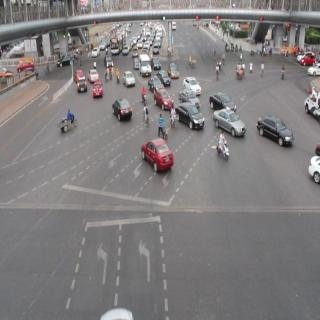Car: (140, 136, 174, 175), (256, 115, 293, 150), (213, 106, 246, 140), (176, 101, 206, 132), (211, 91, 238, 113), (110, 98, 133, 122), (182, 73, 201, 95), (155, 88, 171, 108), (140, 56, 152, 77), (17, 58, 36, 70), (76, 76, 88, 93), (122, 71, 134, 88), (168, 62, 180, 79), (149, 78, 162, 92), (299, 54, 313, 66), (89, 66, 99, 82), (91, 45, 101, 61), (93, 84, 102, 100), (103, 54, 115, 66), (152, 58, 162, 69), (153, 42, 160, 54), (132, 47, 139, 57)
